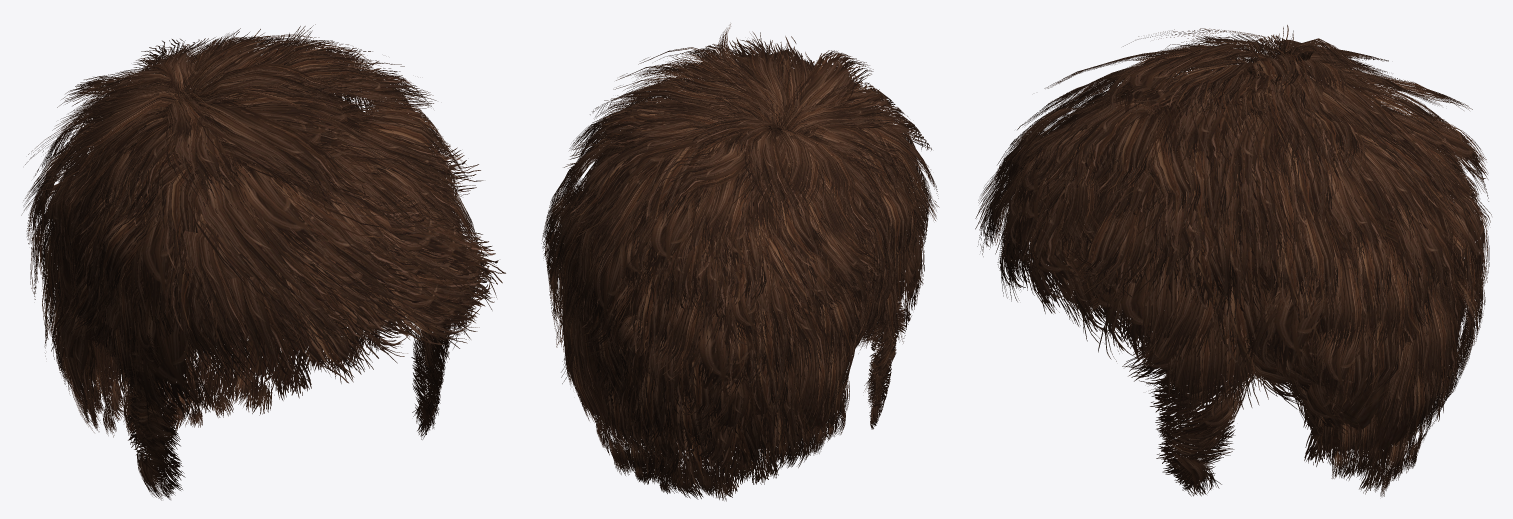
Rendered from manHair1.obj.
3 views of the same model, side by side, from view 1: azimuth 30°, elevation 25°; view 2: azimuth 150°, elevation 25°; view 3: azimuth 270°, elevation 25° (orthographic). The views are drawn at different scales.
Parts seen in each view (by area): view 1: RL_HairMesh; view 2: RL_HairMesh; view 3: RL_HairMesh.
Boxes of the visible parts, left/top/right/bottom form: RL_HairMesh: left=21, top=24, right=505, bottom=500; RL_HairMesh: left=541, top=24, right=939, bottom=501; RL_HairMesh: left=975, top=25, right=1491, bottom=496.
Size of the model in its own units: 18.73 by 21.46 by 23.57.
